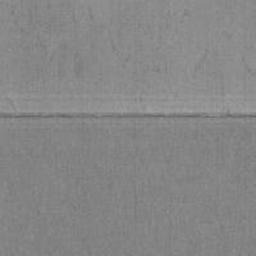Welding line: (0, 111, 256, 120)
